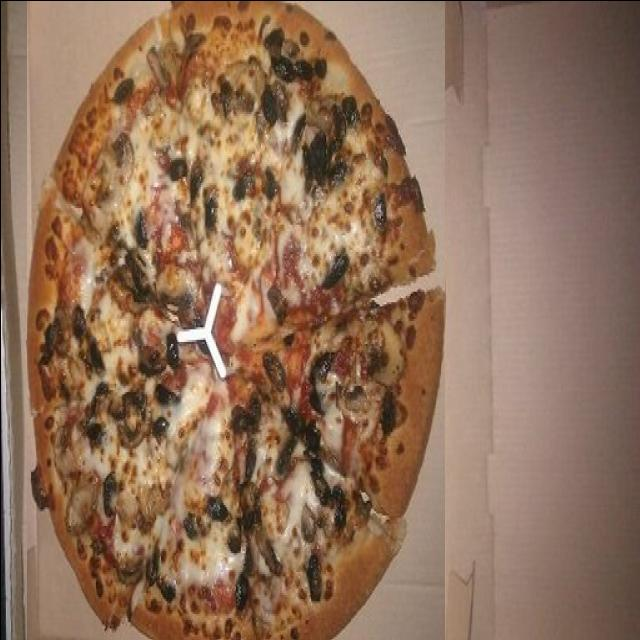pizza: (26, 0, 444, 640)
